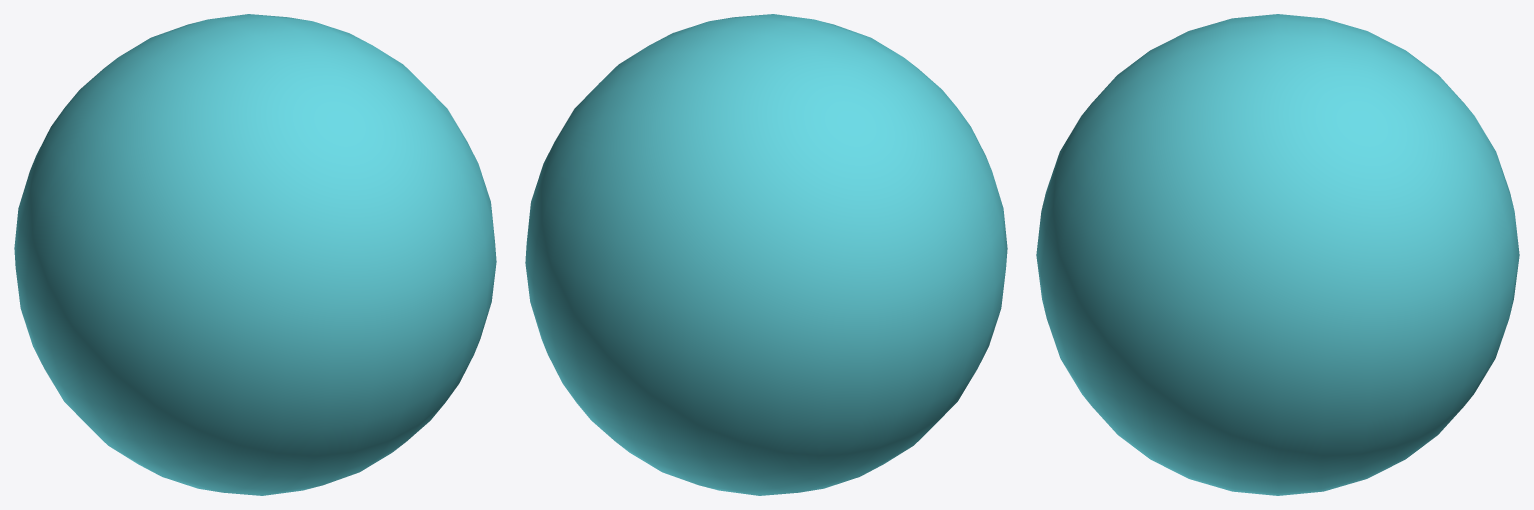
Rendered from AmbientAir.gltf.
3 views of the same model, side by side, from view 1: azimuth 30°, elevation 25°; view 2: azimuth 150°, elevation 25°; view 3: azimuth 270°, elevation 25° (orthographic).
Visible parts, largest first — view 1: AmbientAir; view 2: AmbientAir; view 3: AmbientAir.
Boxes of the visible parts, x1=… form: AmbientAir: x1=14, y1=14, x2=496, y2=495; AmbientAir: x1=525, y1=14, x2=1007, y2=495; AmbientAir: x1=1036, y1=14, x2=1519, y2=495.
Bounding box in the file's own units: 0.1122 × 0.1122 × 0.1122.
